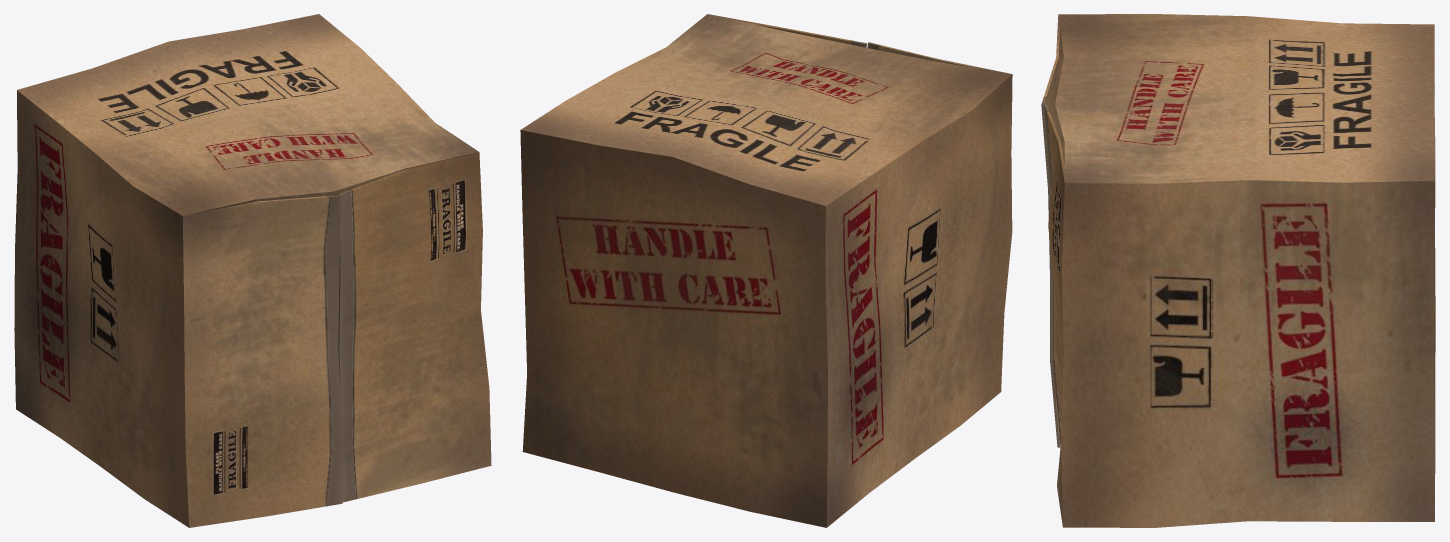
The model's file is CardboardBox.fbx.
3 views of the same model, side by side, from view 1: azimuth 30°, elevation 25°; view 2: azimuth 150°, elevation 25°; view 3: azimuth 270°, elevation 25° (orthographic). The views are drawn at different scales.
Parts seen in each view (by area): view 1: CardboardBox; view 2: CardboardBox; view 3: CardboardBox.
Part boxes in pixels (x1,y1,x2,y2): CardboardBox: (14,14,491,527); CardboardBox: (520,14,1012,527); CardboardBox: (1041,14,1435,527).
Bounding box in the file's own units: 73.53 × 74.41 × 73.9.
